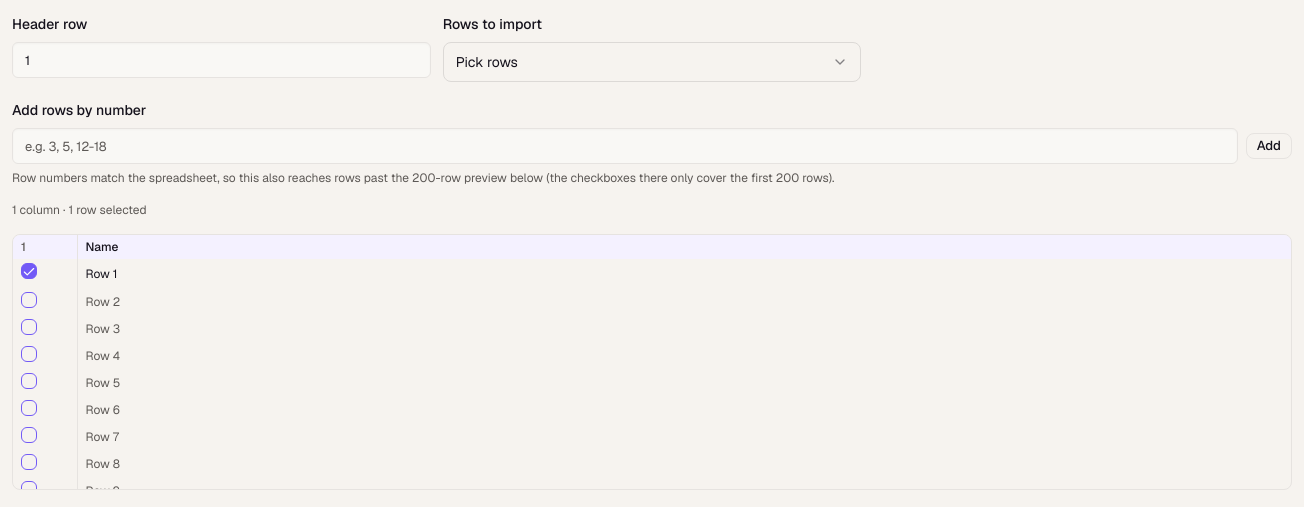
Test: RangeStep picked-row entry › unions newly added rows with existing picks instead of replacing them
expect the text "1 column · 1 row selected" is shown: met, box [12,202,147,218]
Type "4" into the field labelled "Add rows by number" at x=625, y=146, box [12,128,1238,164]
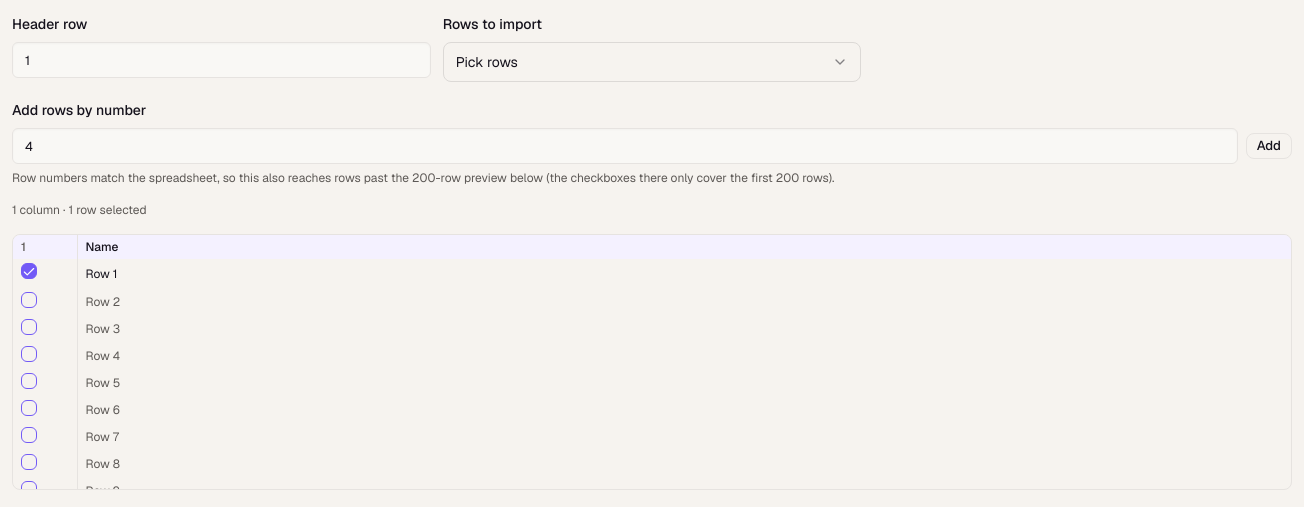
Click the button "Add" at x=1269, y=146, box [1246,133,1292,159]
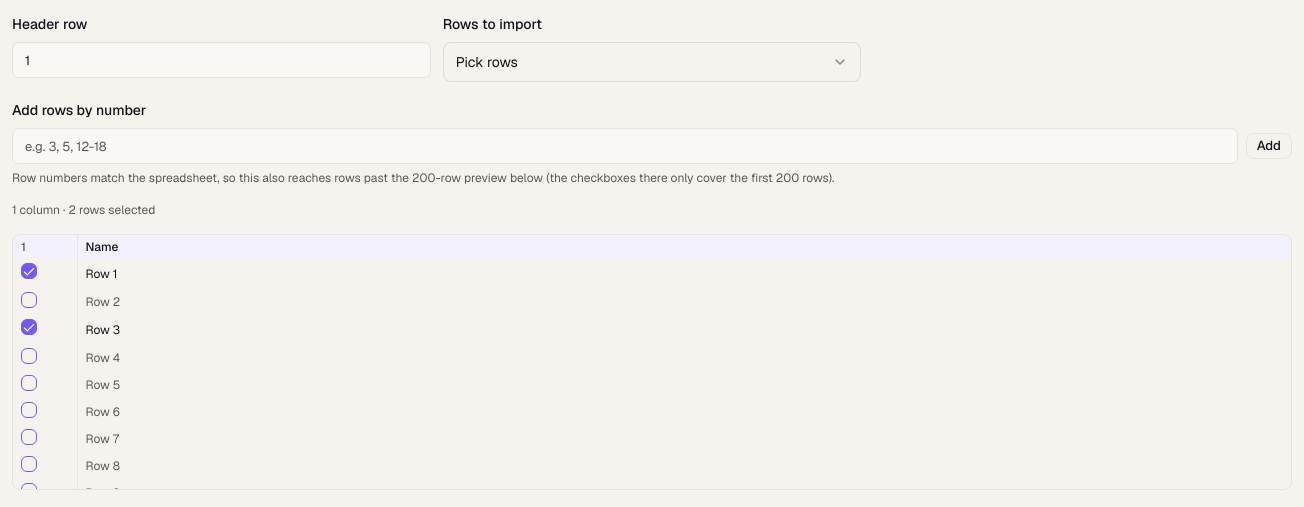
expect the checkbox named "include row 2" is checked: met, box [21,263,37,279]
expect the text "1 column · 2 rows selected" is shown: met, box [12,202,155,218]
